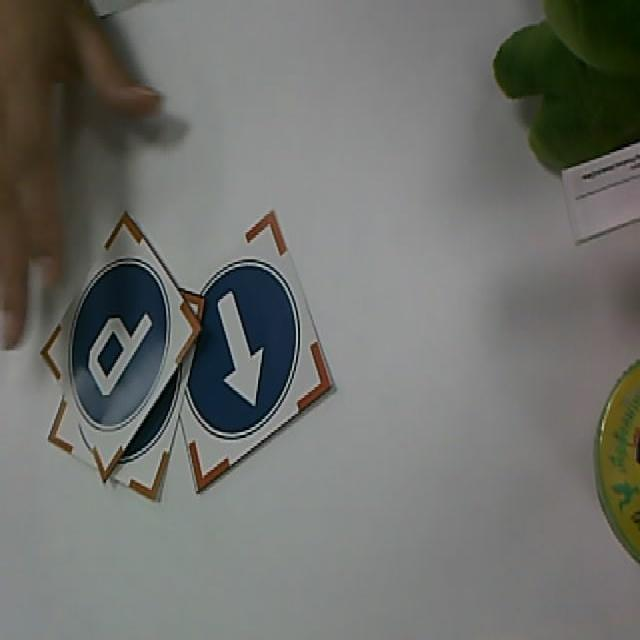parking: (70, 258, 169, 430)
straight: (190, 260, 299, 438)
